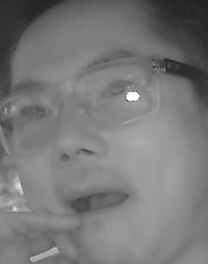glass: (74, 51, 165, 126), (1, 85, 64, 158)
mouth: (61, 182, 130, 220)
